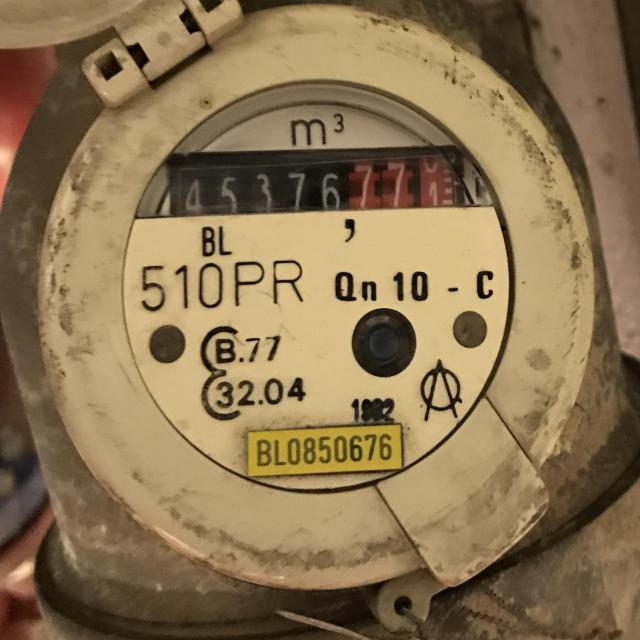gaz_meter: (32, 6, 593, 569)
indication: (167, 148, 459, 220)
